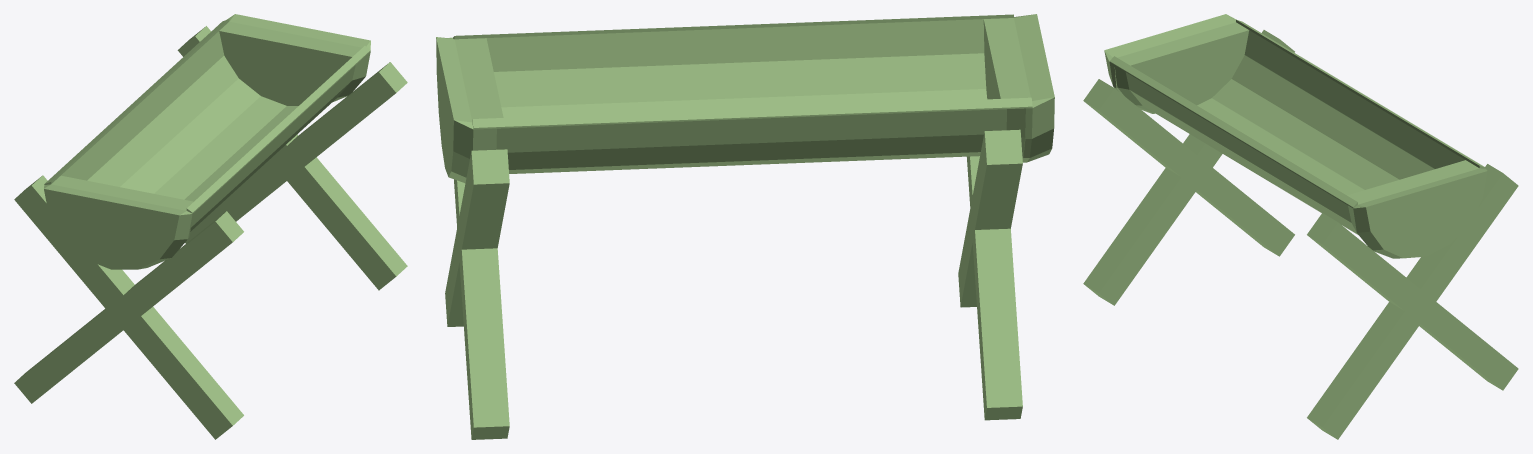
Rendered from cos_dla_konikow.fbx.
The picture shows the model from 3 angles, left to right: view 1: azimuth 30°, elevation 25°; view 2: azimuth 150°, elevation 25°; view 3: azimuth 270°, elevation 25°; orthographic projection. The views are drawn at different scales.
Visible parts, largest first — view 1: cos dla konikow bez tekstury.001; view 2: cos dla konikow bez tekstury.001; view 3: cos dla konikow bez tekstury.001.
Part boxes in pixels (x1,y1,x2,y2): cos dla konikow bez tekstury.001: (14,14,407,439); cos dla konikow bez tekstury.001: (436,14,1054,439); cos dla konikow bez tekstury.001: (1083,14,1518,439).
Bounding box in the file's own units: 6.42 × 3.41 × 5.85.
